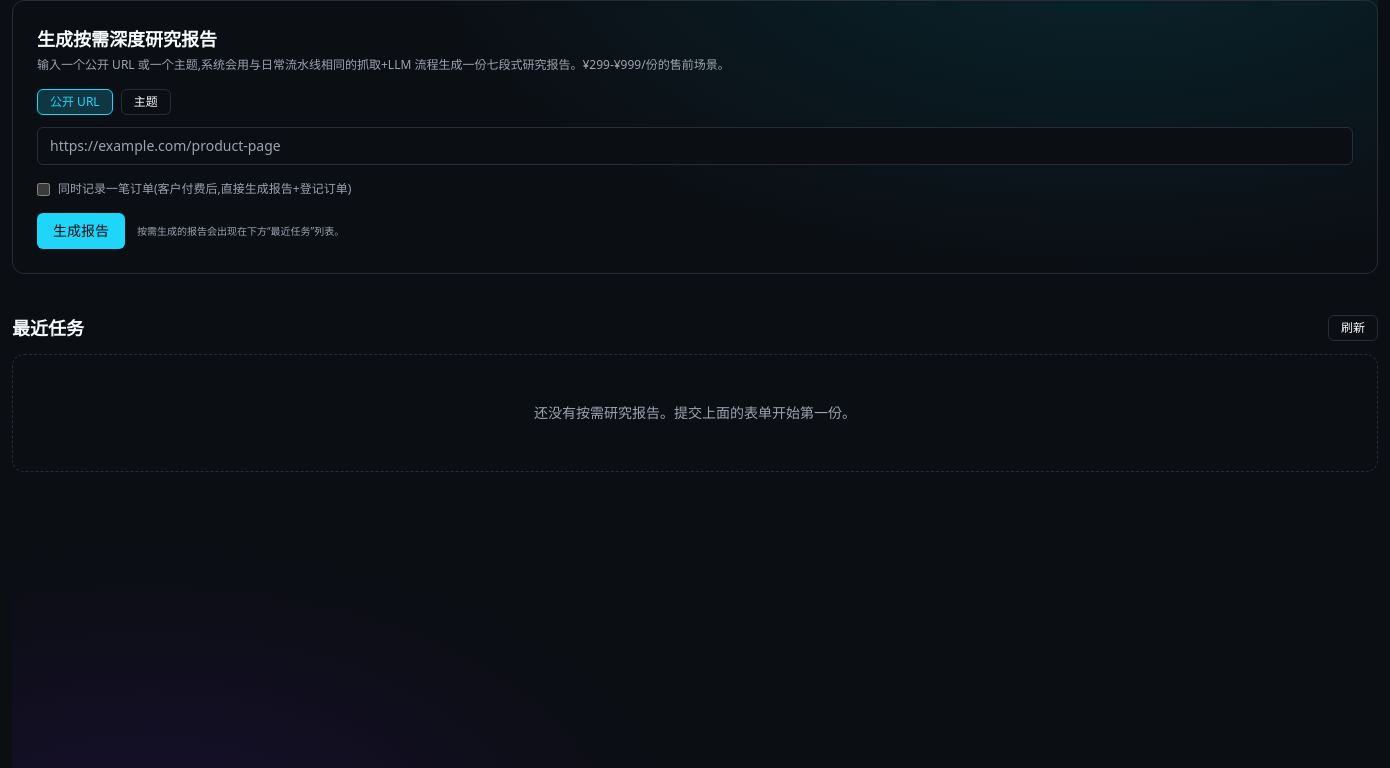
Scenario: OnDemandPanel › toggles between URL and topic seed inputs
expect the field with test id "seed-url-input" is shown: met, box [37,127,1353,165]
Click topic toggle → URL input hides, topic input appears.
Click the button with test id "seed-toggle-topic": click(146, 102) [121,89,171,115]
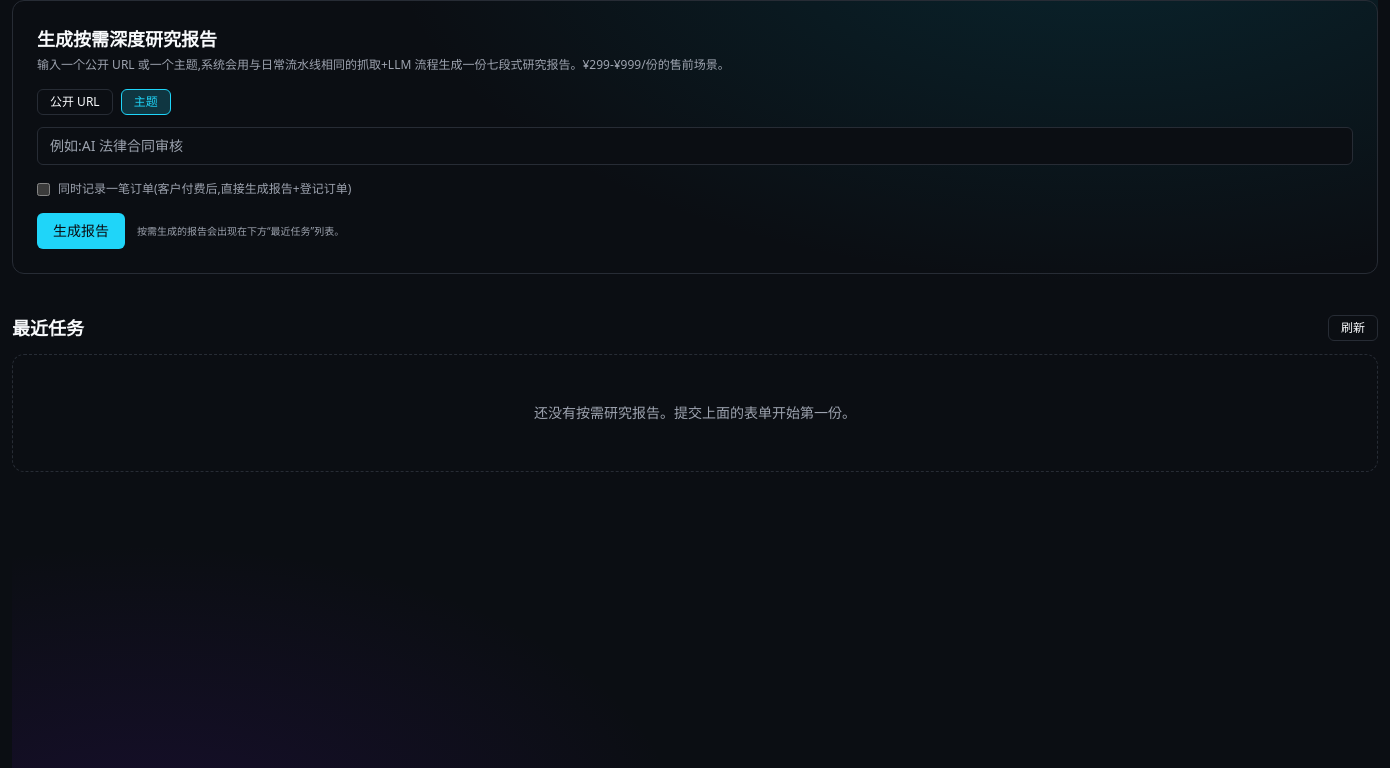
expect the field with test id "seed-topic-input" is shown: met, box [37,127,1353,165]
Back to URL.
Click the button with test id "seed-toggle-url": click(75, 102) [37,89,113,115]
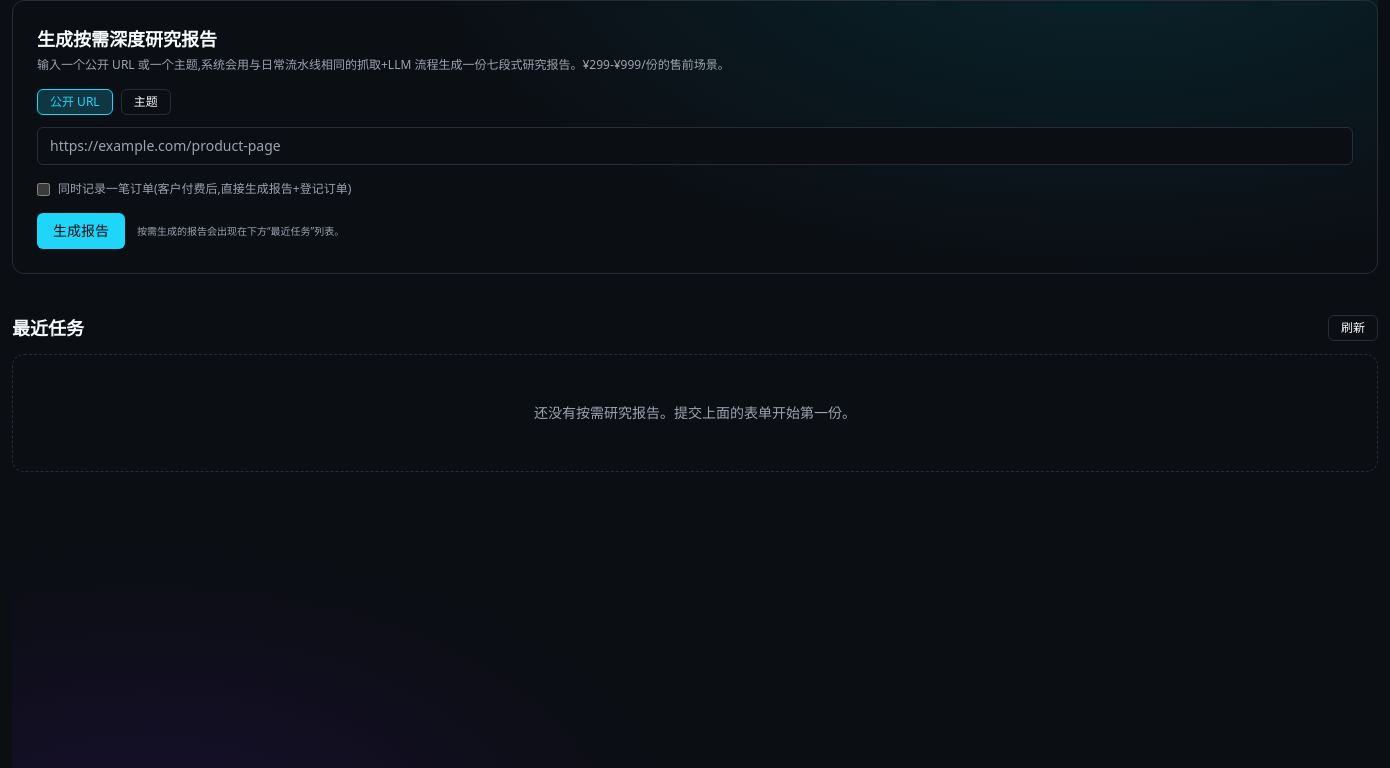
expect the field with test id "seed-url-input" is shown: met, box [37,127,1353,165]
